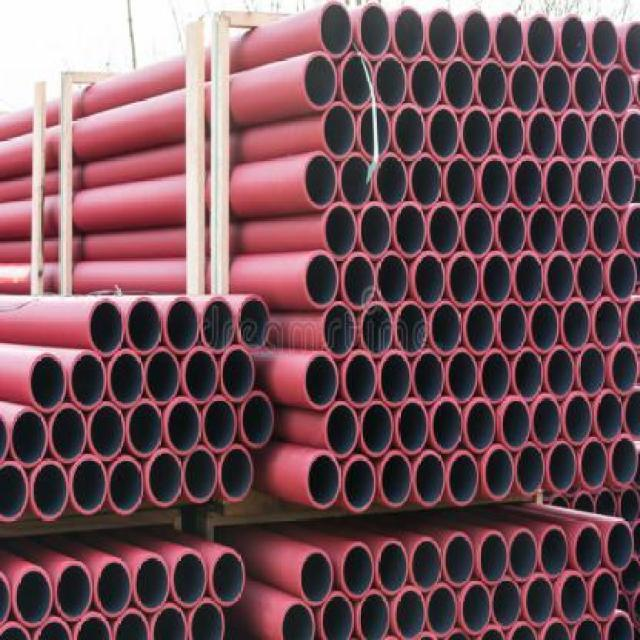pipe: (31, 463, 67, 520), (133, 556, 169, 613), (88, 300, 124, 356), (11, 410, 47, 466), (16, 569, 52, 625), (30, 356, 66, 410), (109, 351, 143, 407), (70, 353, 104, 409), (97, 561, 131, 617), (52, 406, 86, 461), (324, 204, 357, 260), (341, 53, 374, 109), (305, 252, 339, 306), (127, 299, 161, 353), (146, 349, 180, 403), (304, 354, 338, 408), (325, 402, 359, 456), (89, 405, 123, 459), (172, 552, 206, 606), (57, 564, 91, 618), (72, 458, 106, 511), (305, 153, 338, 207), (340, 154, 373, 208), (375, 155, 408, 209), (343, 254, 376, 308), (319, 2, 352, 56), (323, 302, 356, 356), (168, 399, 201, 453), (308, 453, 341, 507), (110, 459, 143, 513), (323, 105, 356, 158), (358, 105, 391, 158), (393, 105, 426, 158), (166, 299, 199, 352), (185, 349, 218, 402), (241, 394, 274, 447), (128, 402, 161, 455), (212, 551, 245, 604), (304, 55, 337, 108), (238, 298, 271, 349), (202, 299, 235, 350), (221, 348, 254, 399), (184, 449, 217, 500), (149, 452, 182, 503), (300, 552, 333, 603), (359, 204, 390, 258), (359, 4, 390, 58), (345, 352, 376, 406), (397, 399, 428, 453), (344, 458, 375, 512), (428, 106, 459, 159), (462, 108, 493, 161), (411, 155, 442, 208), (395, 204, 426, 257), (429, 204, 460, 257), (377, 252, 408, 305), (414, 253, 445, 306), (497, 300, 528, 353), (396, 302, 427, 355), (362, 303, 393, 356), (479, 351, 510, 404), (413, 351, 444, 404), (432, 399, 463, 452), (466, 399, 497, 452), (362, 402, 393, 455), (380, 453, 411, 506), (443, 533, 474, 586), (461, 582, 492, 635), (376, 56, 407, 109), (410, 58, 441, 111), (444, 58, 475, 111), (394, 590, 427, 639), (394, 9, 425, 60), (380, 352, 411, 403), (222, 448, 253, 499), (342, 545, 373, 596), (0, 463, 28, 519), (446, 156, 475, 209), (466, 301, 495, 354), (516, 443, 545, 496), (485, 446, 514, 499), (415, 452, 444, 505), (449, 453, 478, 506), (378, 541, 407, 594), (427, 585, 456, 638), (204, 400, 235, 449), (357, 593, 390, 639), (321, 594, 354, 639), (464, 206, 493, 257), (483, 253, 512, 304), (449, 254, 478, 305), (432, 303, 461, 354), (428, 11, 457, 62), (463, 11, 492, 62), (546, 348, 575, 399), (513, 349, 542, 400), (447, 350, 476, 401), (501, 399, 530, 450), (479, 532, 508, 583), (412, 539, 441, 590), (492, 577, 521, 628), (497, 206, 525, 257), (594, 299, 622, 350), (562, 300, 590, 351), (530, 301, 558, 352), (595, 391, 623, 442), (564, 393, 592, 444), (532, 396, 560, 447), (546, 253, 575, 302), (514, 255, 543, 304), (478, 62, 507, 111), (496, 111, 524, 160), (482, 159, 510, 208), (529, 207, 557, 256), (609, 251, 637, 300), (575, 253, 603, 302), (611, 345, 639, 394), (578, 347, 606, 396), (495, 15, 523, 64), (560, 17, 588, 66), (528, 17, 556, 66), (610, 437, 638, 486), (549, 442, 577, 491), (540, 527, 568, 576), (509, 530, 537, 579), (525, 577, 553, 626), (511, 63, 539, 112), (542, 64, 570, 113), (574, 65, 602, 114), (604, 67, 632, 116), (560, 112, 588, 160), (591, 112, 619, 160), (607, 159, 635, 207), (514, 159, 542, 207), (545, 160, 573, 208), (592, 206, 620, 254), (561, 207, 589, 255), (592, 19, 620, 67), (559, 574, 587, 622), (191, 600, 224, 639), (581, 440, 607, 489), (281, 602, 315, 639), (530, 112, 556, 160), (577, 159, 603, 207), (576, 526, 602, 574), (592, 572, 618, 620), (151, 606, 187, 640), (607, 523, 633, 569), (115, 611, 151, 639), (74, 615, 111, 640), (623, 21, 640, 75), (623, 112, 640, 161), (623, 388, 639, 439), (618, 487, 640, 524), (35, 618, 72, 640), (624, 206, 640, 255), (606, 614, 634, 639), (574, 617, 603, 639), (595, 490, 617, 516), (542, 620, 570, 639), (573, 492, 595, 514), (509, 623, 537, 639)
